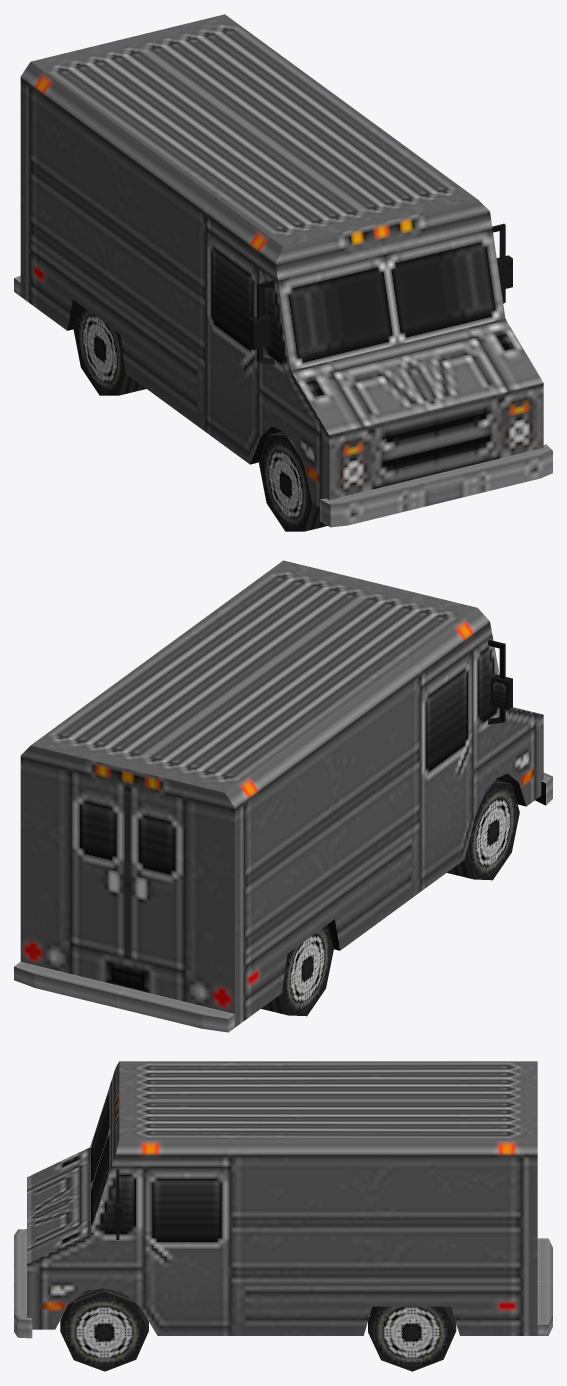
The model's file is Auto7gris.fbx.
The picture shows the model from 3 angles, top to bottom: view 1: azimuth 30°, elevation 25°; view 2: azimuth 150°, elevation 25°; view 3: azimuth 270°, elevation 25°; orthographic projection. The views are drawn at different scales.
Visible parts, largest first — view 1: Car8; view 2: Car8; view 3: Car8.
Boxes of the visible parts, x1=… form: Car8: x1=14, y1=14, x2=552, y2=531; Car8: x1=14, y1=560, x2=552, y2=1032; Car8: x1=14, y1=1061, x2=552, y2=1371.
Size of the model in its own units: 317 by 323 by 689.
Materials: 1 (1 with a texture image).
